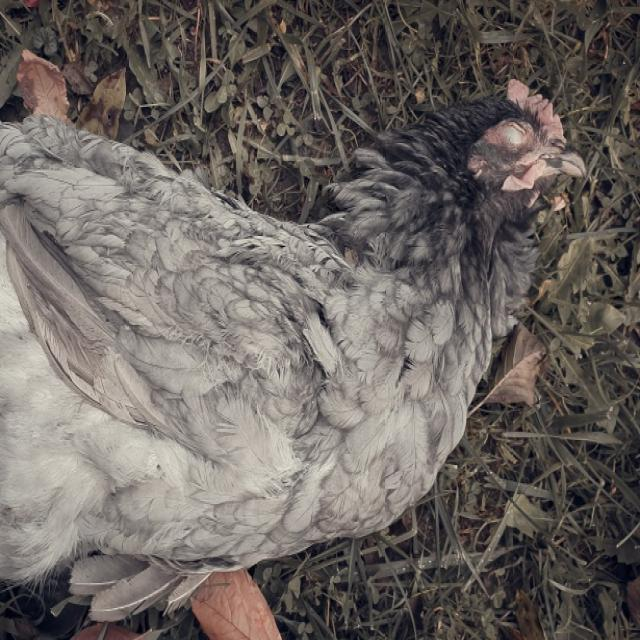Unhealthy: (19, 27, 595, 603)
